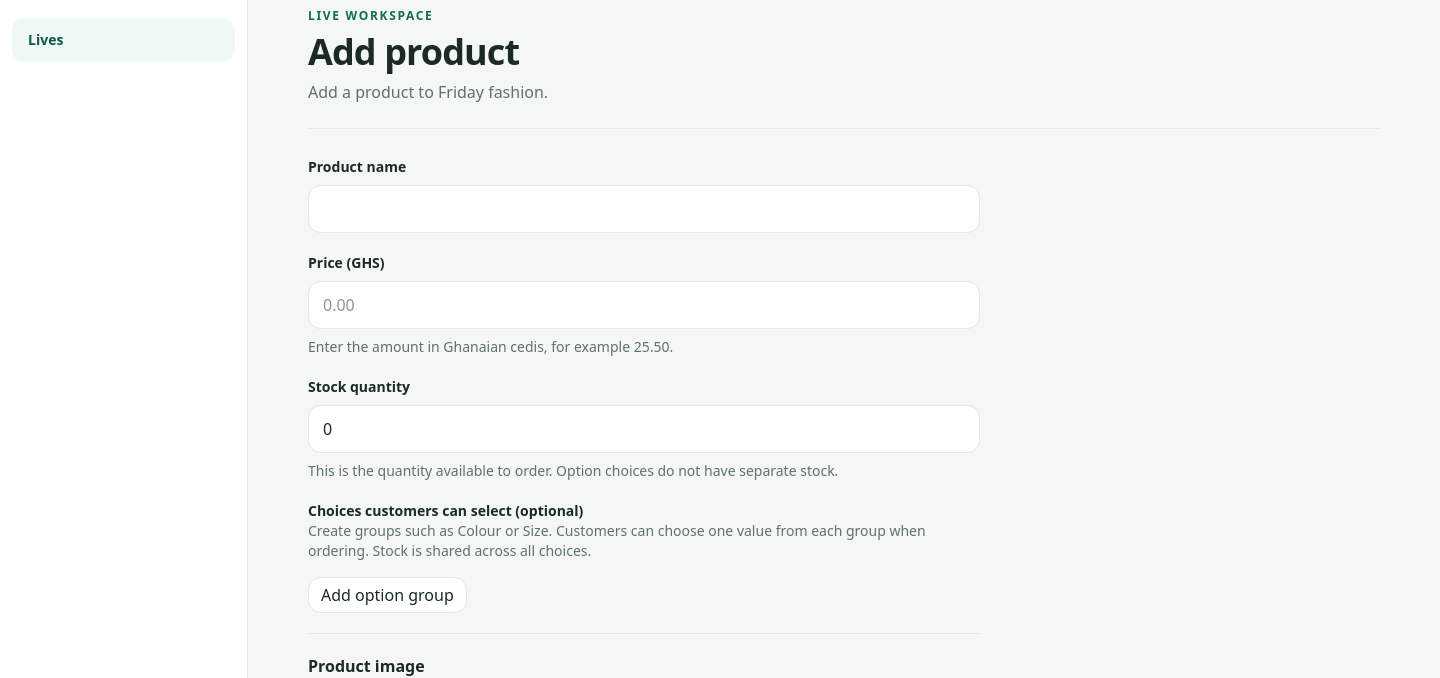
it: seller product management › rejects invalid price and unfinished options before sending a create request
Step 1. Type "A product" into the field labelled "Product name" → (644, 209), box [308, 185, 980, 233]
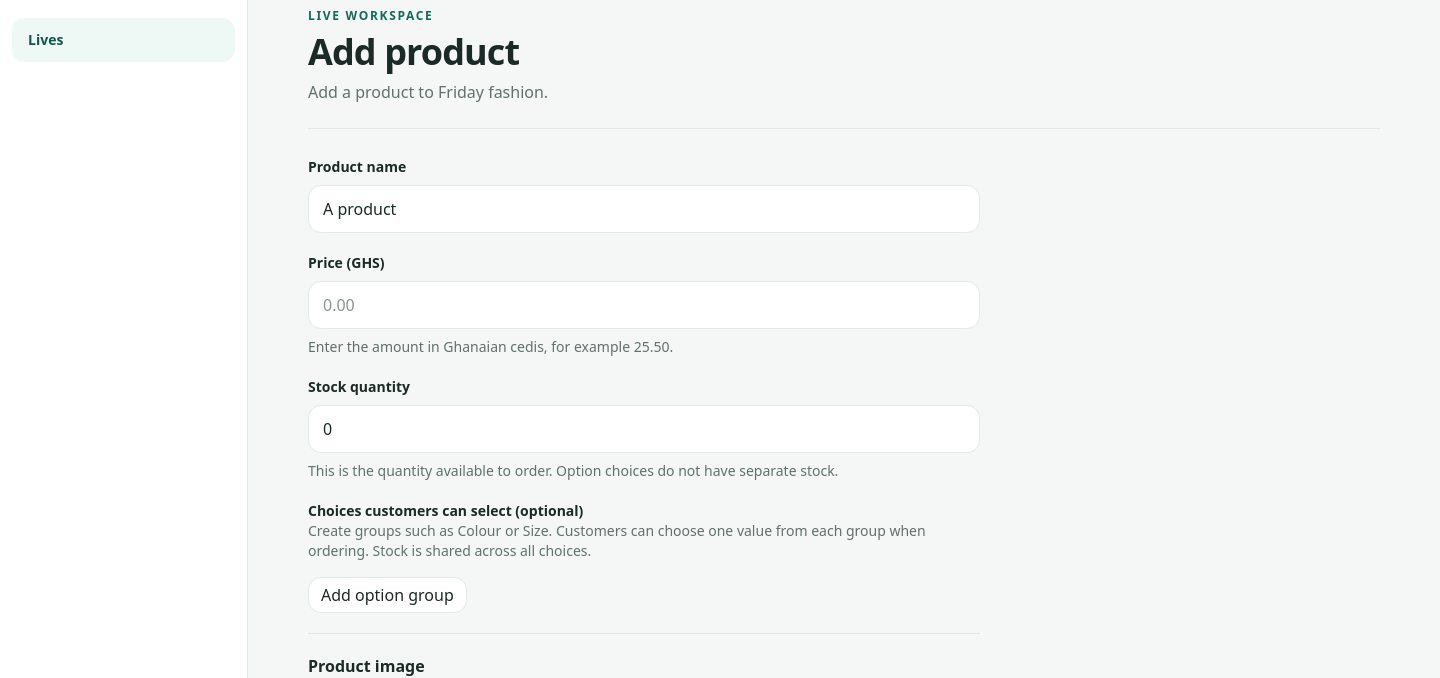
Step 2. Type "1.001" into the field labelled "Price (GHS)" → (644, 305), box [308, 281, 980, 329]
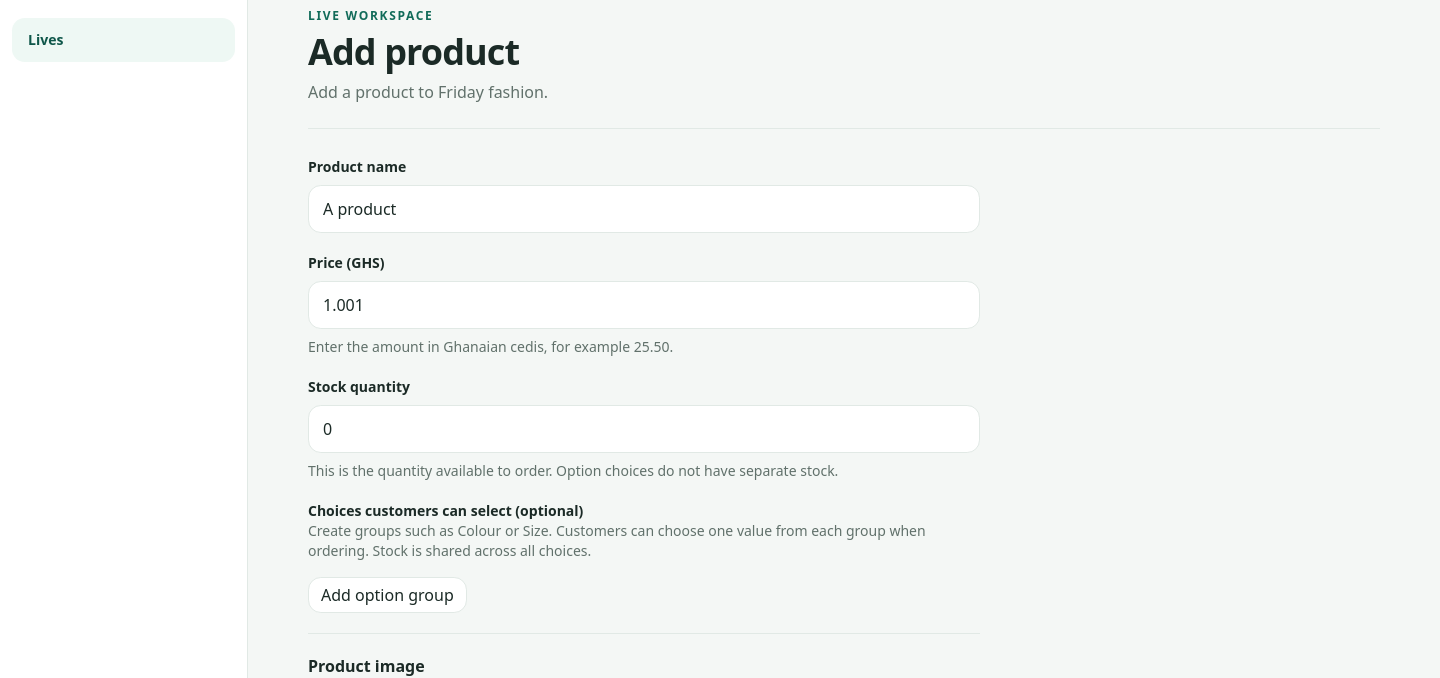
Step 3. Click the button "Add option group" → (387, 595), box [308, 577, 467, 613]
(page scrolled)
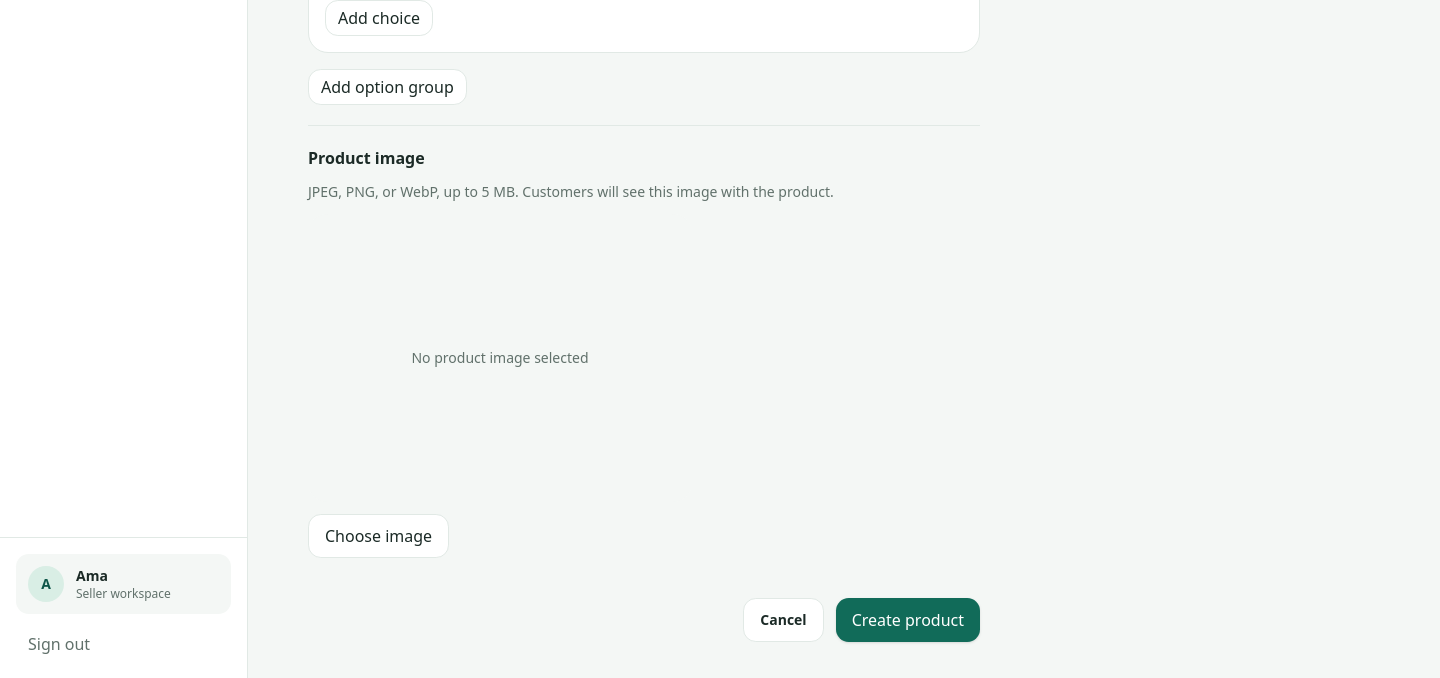
Step 4. Click the button "Create product" → (908, 620), box [836, 598, 980, 642]
(page scrolled)
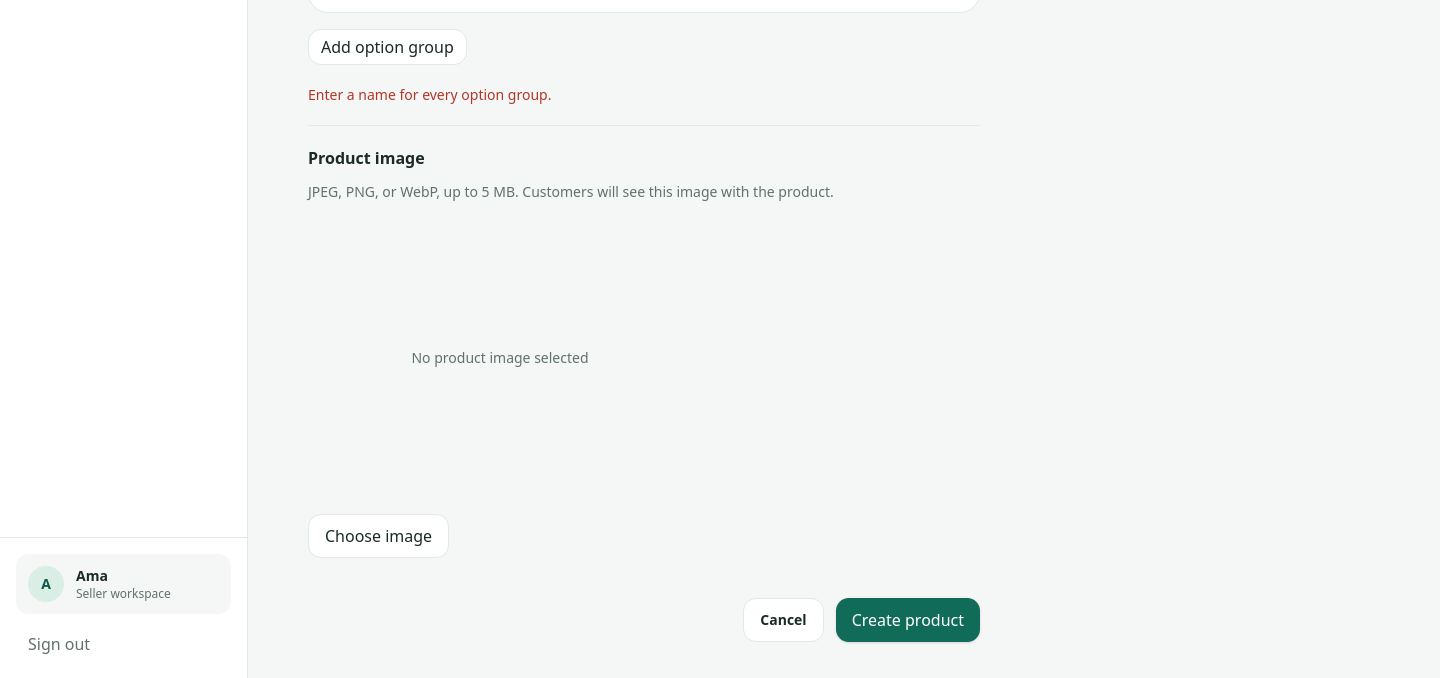
Check: the text "Enter a name for every option group." is shown, box [308, 85, 551, 104]
